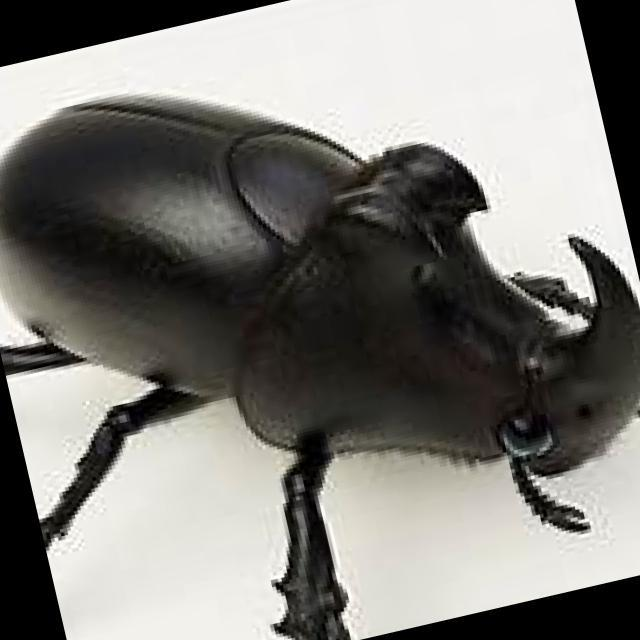Rhino-beetle: (12, 83, 640, 550)
